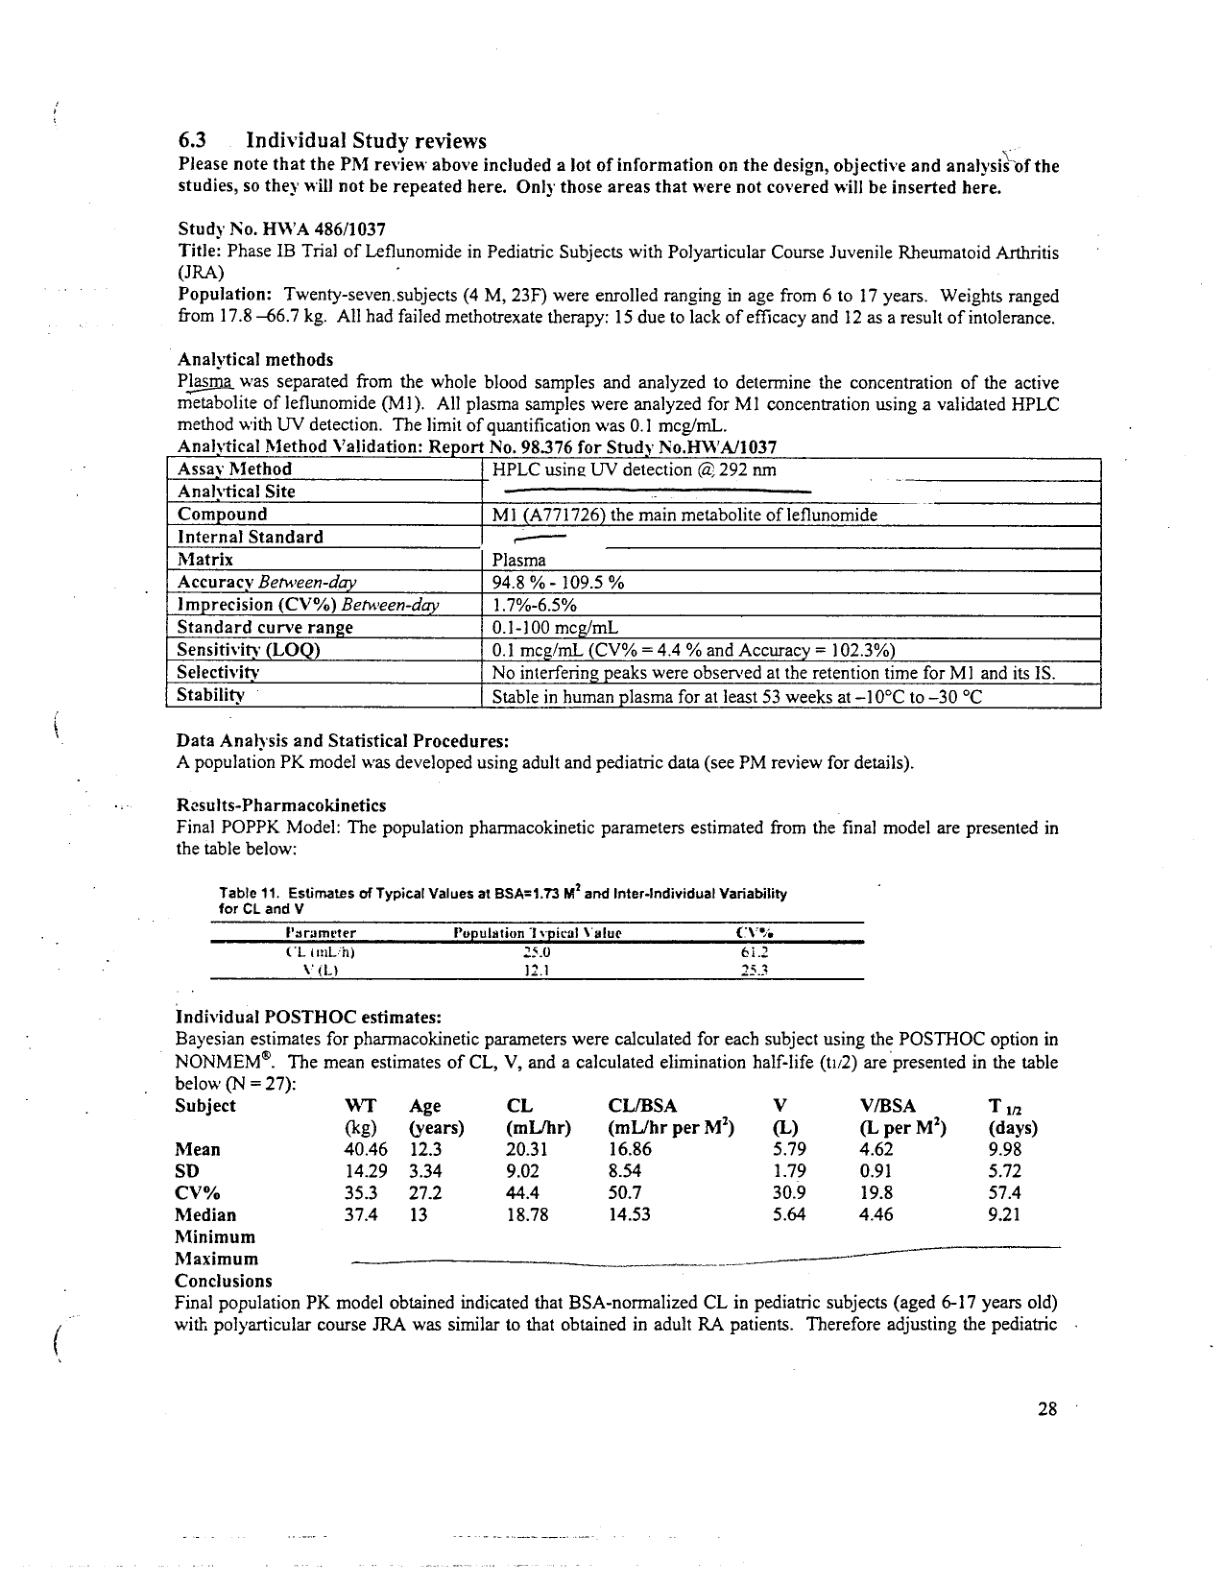full_lined: (166, 455, 1103, 710)
nolines: (174, 1092, 1068, 1290)
partial_lined: (210, 921, 867, 982)
